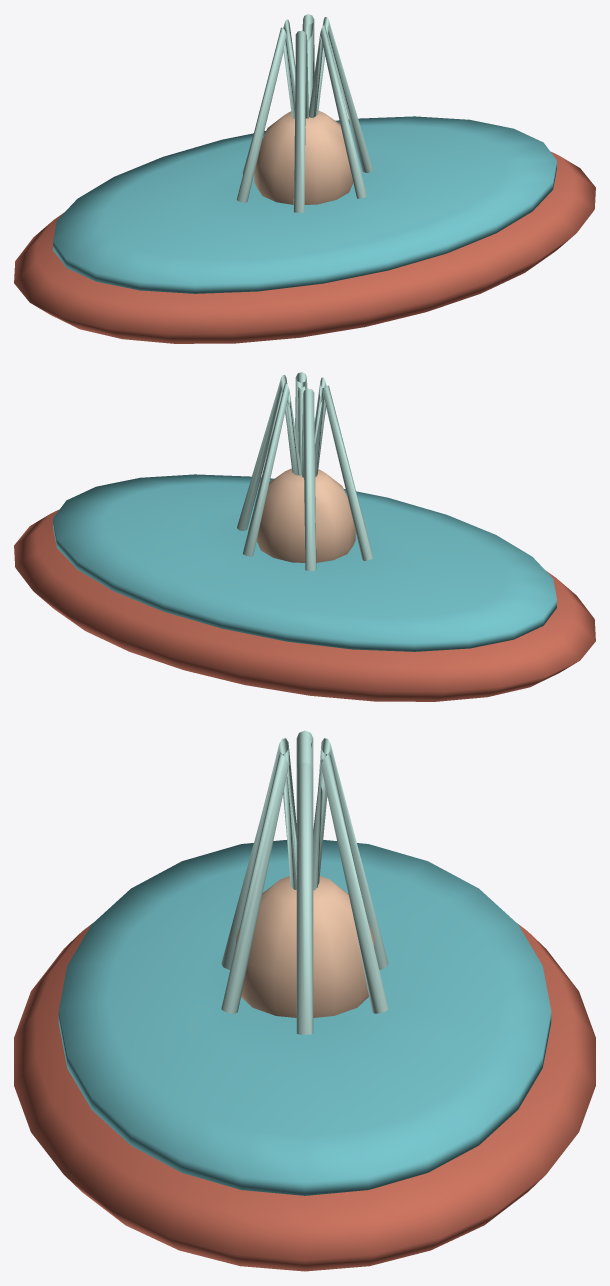
Rendered from fountain_5.glb.
3 renders of one model, top to bottom at view 1: azimuth 30°, elevation 25°; view 2: azimuth 150°, elevation 25°; view 3: azimuth 270°, elevation 25°, orthographic. The views are drawn at different scales.
Parts seen in each view (by area): view 1: Fountain; view 2: Fountain; view 3: Fountain.
Boxes of the visible parts, left/top/right/bottom form: Fountain: left=14, top=14, right=595, bottom=343; Fountain: left=14, top=372, right=595, bottom=701; Fountain: left=14, top=730, right=595, bottom=1271.
Size of the model in its own units: 3.24 by 1.46 by 2.01.
